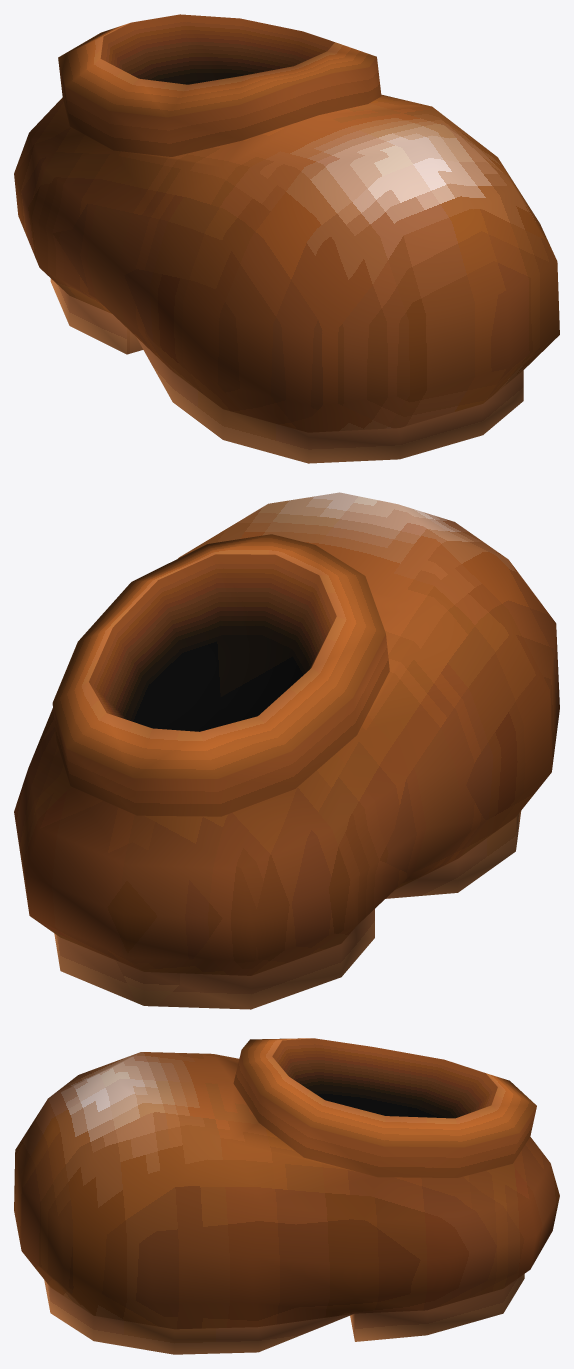
File: shoer.obj
3 renders of one model, top to bottom at view 1: azimuth 30°, elevation 25°; view 2: azimuth 150°, elevation 25°; view 3: azimuth 270°, elevation 25°, orthographic. The views are drawn at different scales.
Visible parts, largest first — view 1: shoe; view 2: shoe; view 3: shoe.
Part boxes in pixels (<box>): shoe: <box>14,14,559,463</box>; shoe: <box>14,492,559,1009</box>; shoe: <box>14,1038,559,1354</box>.
Bounding box in the file's own units: 6.7 × 5.29 × 11.06.
1 material, 1 textured.
